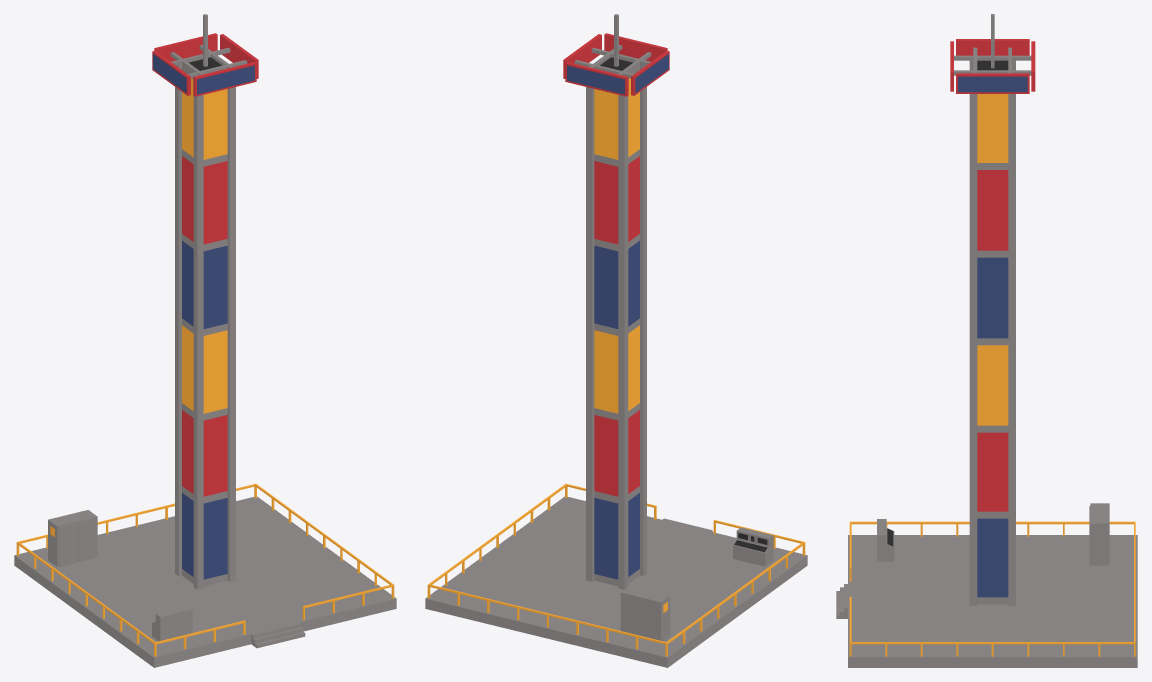
The model's file is free-fall-rides.glb.
3 views of the same model, side by side, from view 1: azimuth 30°, elevation 25°; view 2: azimuth 150°, elevation 25°; view 3: azimuth 270°, elevation 25° (orthographic). The views are drawn at different scales.
Parts seen in each view (by area): view 1: free-fall-rides; view 2: free-fall-rides; view 3: free-fall-rides.
Part boxes in pixels (box(x1,y1,x2,y2)): free-fall-rides: box(14, 14, 396, 667); free-fall-rides: box(425, 14, 807, 667); free-fall-rides: box(836, 14, 1137, 667).
Size of the model in its own units: 15 by 33.8 by 15.6.
1 material, 1 textured.
